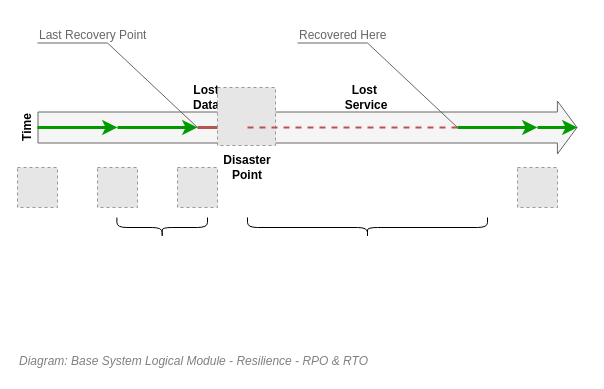
Image size: 604x389. Some labels were removed from this diagram. Grey dashed boxes stand in for pictures. Here are the shapes that lost their labels. From the top down, the box of each, then its label:
(116, 216, 208, 238): Implemented Agreed RPO
(246, 216, 488, 238): Recovery Achieved Within Max RTO
